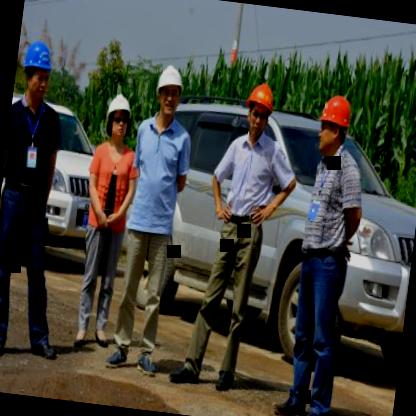helmet: (18, 32, 58, 105), (312, 90, 355, 157), (150, 58, 188, 122), (101, 85, 136, 145), (241, 78, 276, 138)
